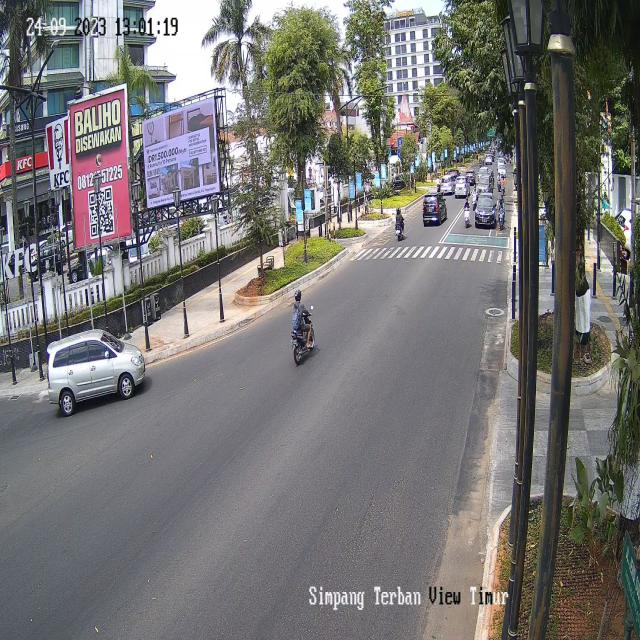car: (45, 328, 146, 415), (422, 190, 447, 229), (475, 194, 496, 227), (454, 176, 470, 199), (478, 175, 493, 198), (440, 174, 455, 194), (447, 168, 461, 184), (478, 166, 488, 182), (465, 170, 476, 184)
motorcycle: (290, 288, 317, 367), (396, 207, 404, 241), (497, 197, 504, 231), (464, 198, 470, 229), (472, 184, 478, 212), (500, 174, 506, 197), (436, 175, 441, 192), (497, 172, 501, 191)
